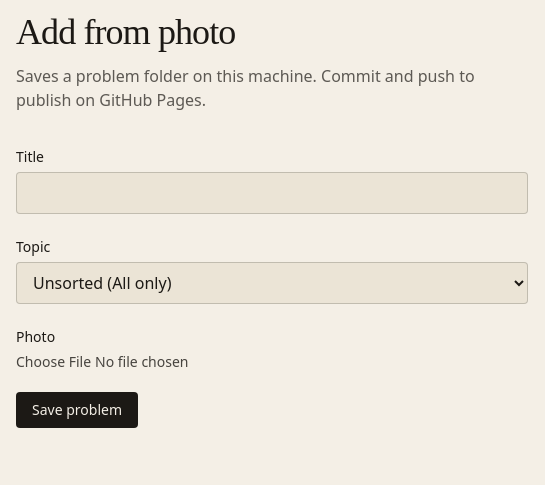
Test case: pages › asks for a photo when submitting without one
The image size is (545, 485).
Type "New problem" into the field labelled "Title". click: (272, 193)
box: [16, 172, 528, 214]
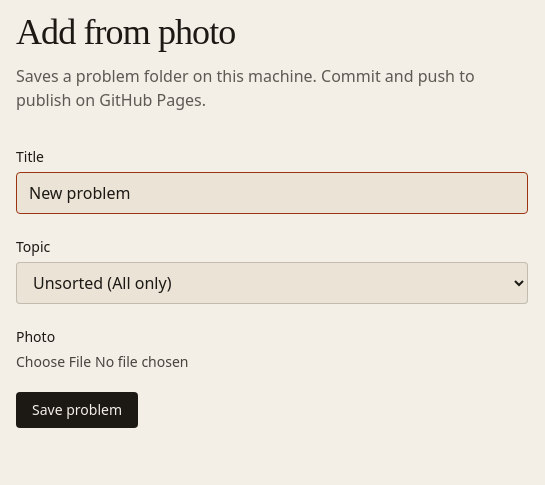
Submit the form "Save problem", box [16, 144, 528, 428]
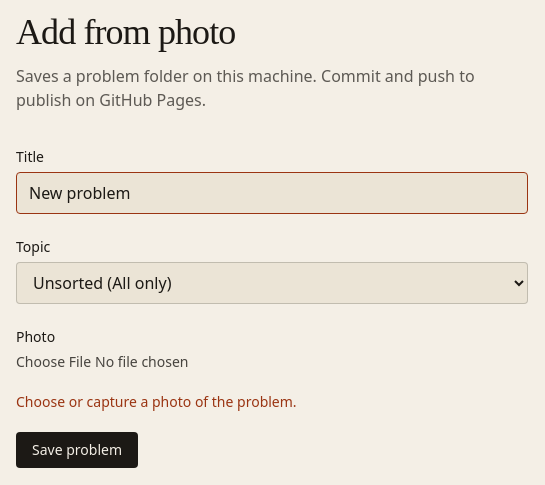
Expected: the text "Choose or capture a photo of the problem." is shown, [16, 392, 297, 411]
